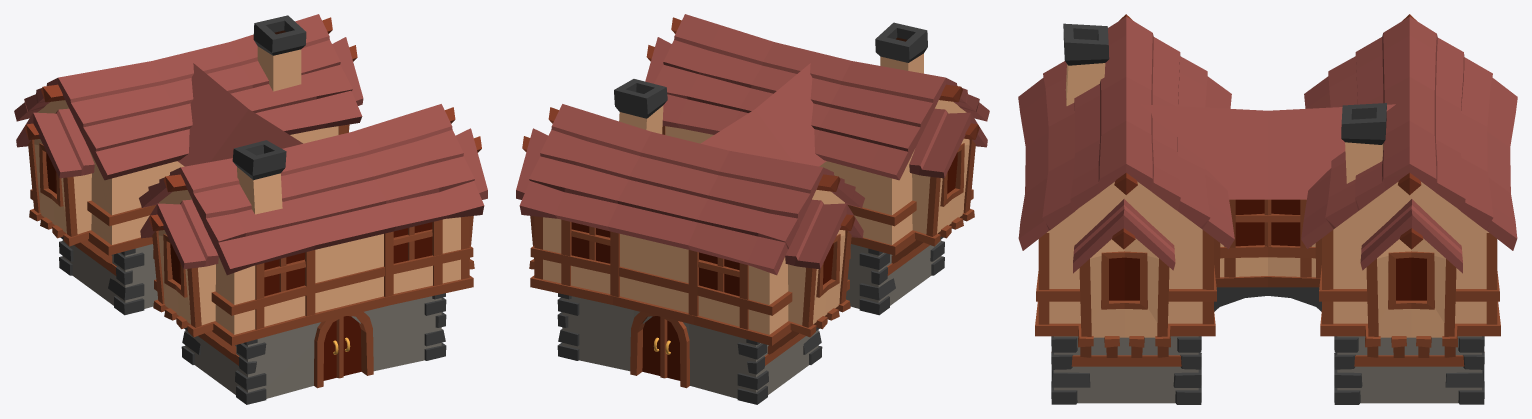
The model's file is House_3.glb.
3 renders of one model, left to right at view 1: azimuth 30°, elevation 25°; view 2: azimuth 150°, elevation 25°; view 3: azimuth 270°, elevation 25°, orthographic. The views are drawn at different scales.
Visible parts, largest first — view 1: Cube.048_Medieval_0, Cube.010_Medieval_0, Cube.014_Medieval_0, Cube.129_Medieval_0, Cube.128_Medieval_0; view 2: Cube.048_Medieval_0, Cube.010_Medieval_0, Cube.014_Medieval_0, Cube.128_Medieval_0, Cube.129_Medieval_0; view 3: Cube.048_Medieval_0, Cube.010_Medieval_0, Cube.014_Medieval_0.
Boxes of the visible parts, x1,y1,x2,y2 form: Cube.048_Medieval_0: [14, 14, 487, 275]; Cube.010_Medieval_0: [28, 15, 474, 398]; Cube.014_Medieval_0: [59, 236, 446, 404]; Cube.129_Medieval_0: [163, 107, 455, 192]; Cube.128_Medieval_0: [41, 17, 332, 102]; Cube.048_Medieval_0: [516, 14, 989, 275]; Cube.010_Medieval_0: [529, 22, 975, 398]; Cube.014_Medieval_0: [557, 236, 944, 404]; Cube.128_Medieval_0: [548, 107, 840, 191]; Cube.129_Medieval_0: [671, 17, 962, 102]; Cube.048_Medieval_0: [1018, 16, 1517, 273]; Cube.010_Medieval_0: [1035, 23, 1500, 403]; Cube.014_Medieval_0: [1051, 336, 1484, 404].
Size of what is drawn, in the model's own units: 6.73 by 4.65 by 7.64.
Materials: 1 (1 with a texture image).
